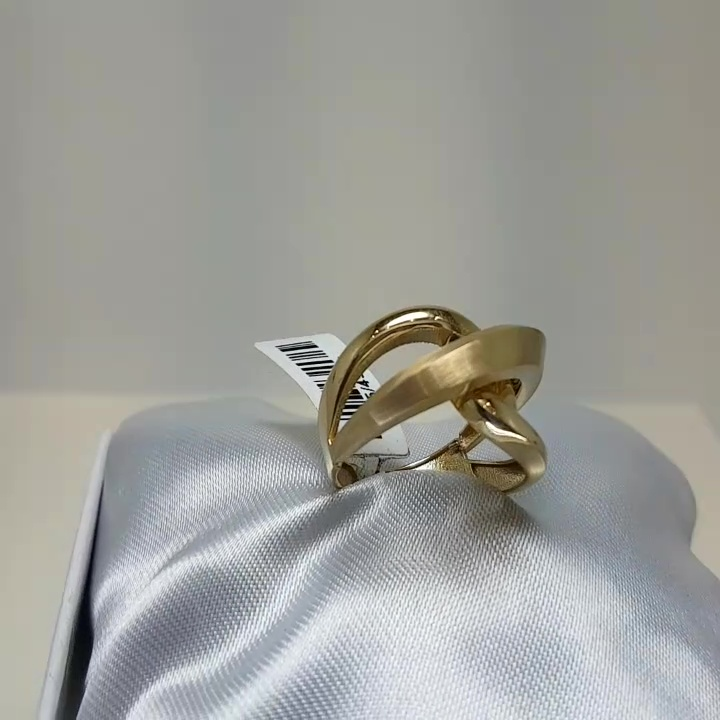Ring 3: (288, 285, 563, 538)
